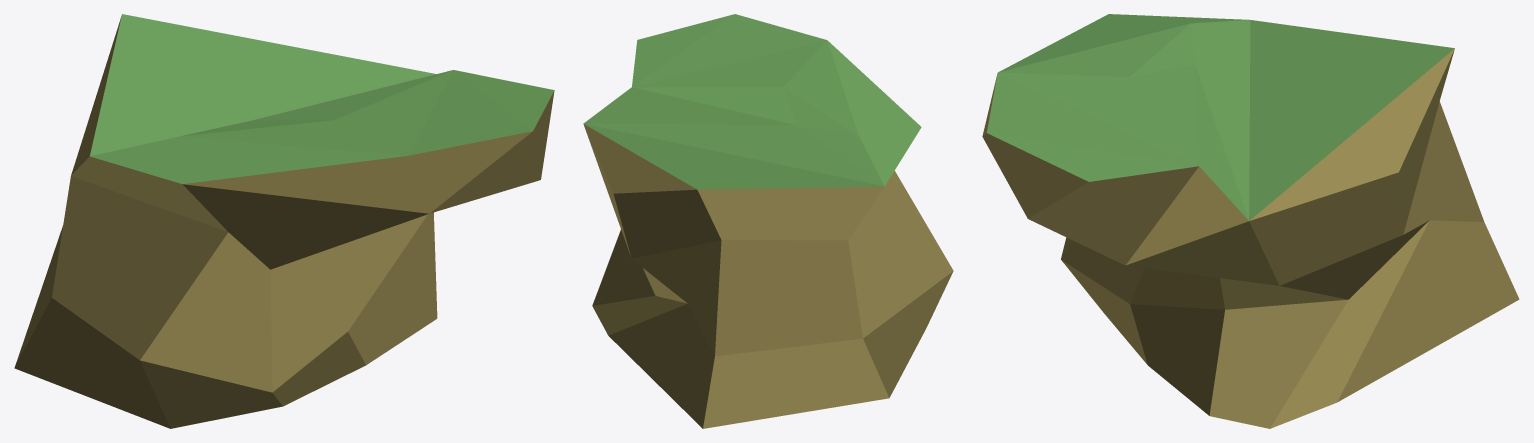
The model's file is low poly rock big.fbx.
3 renders of one model, left to right at view 1: azimuth 30°, elevation 25°; view 2: azimuth 150°, elevation 25°; view 3: azimuth 270°, elevation 25°, orthographic. The views are drawn at different scales.
Visible parts, largest first — view 1: Plane.008; view 2: Plane.008; view 3: Plane.008.
Part boxes in pixels (x1,y1,x2,y2): Plane.008: [14, 14, 554, 428]; Plane.008: [583, 14, 953, 428]; Plane.008: [982, 14, 1519, 428].
Size of the model in its own units: 633 by 384 by 675.
